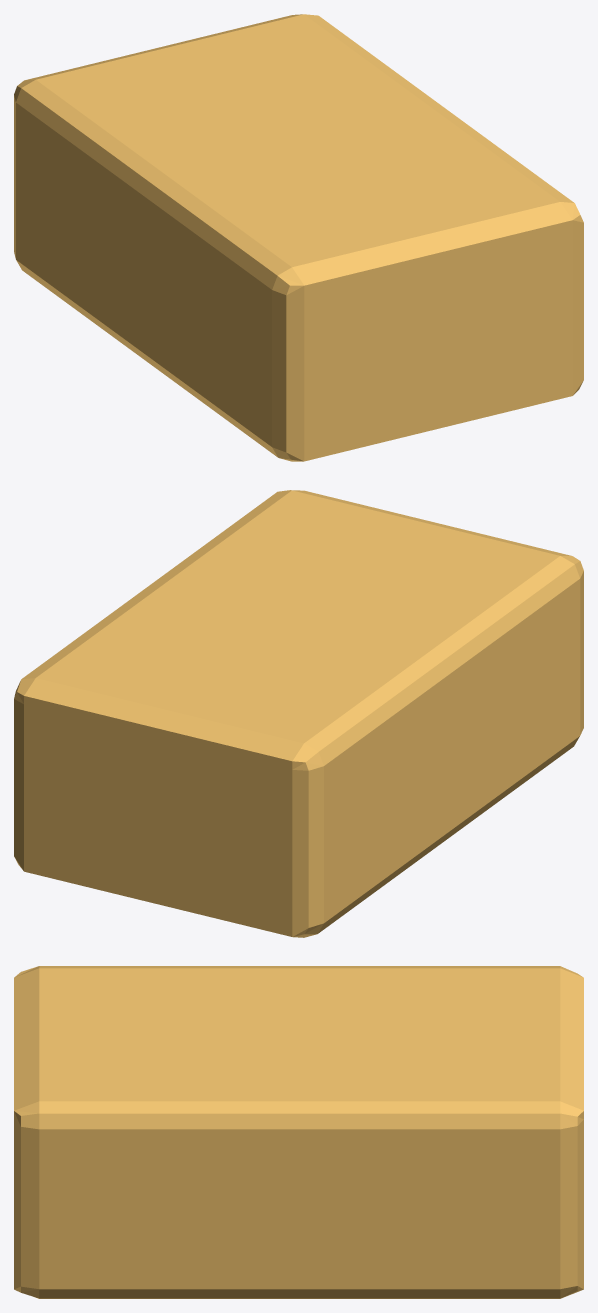
The model's file is butter.glb.
3 renders of one model, top to bottom at view 1: azimuth 30°, elevation 25°; view 2: azimuth 150°, elevation 25°; view 3: azimuth 270°, elevation 25°, orthographic.
Parts seen in each view (by area): view 1: Node; view 2: Node; view 3: Node.
Part boxes in pixels (left/top/right/bottom): Node: left=14, top=14, right=583, bottom=461; Node: left=14, top=490, right=583, bottom=937; Node: left=14, top=966, right=583, bottom=1298.
Bounding box in the file's own units: 0.6344 × 0.3826 × 1.
